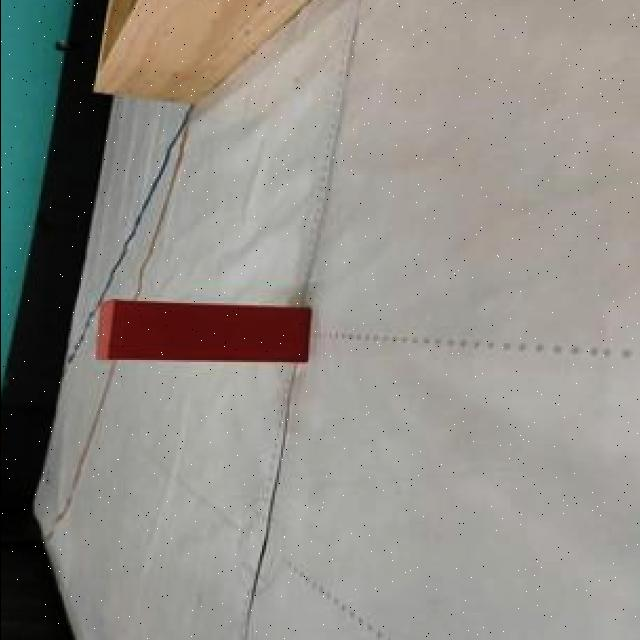redbox: (92, 300, 312, 363)
